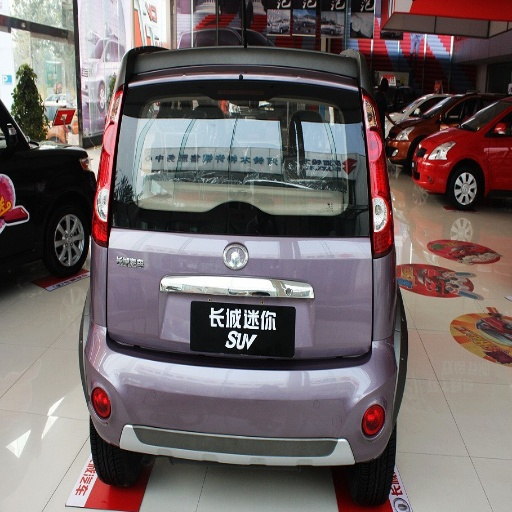back_bumper: (81, 326, 205, 457), (290, 329, 402, 463)
tailgate: (110, 143, 354, 364)
trunk: (274, 240, 388, 369), (108, 227, 200, 365)
